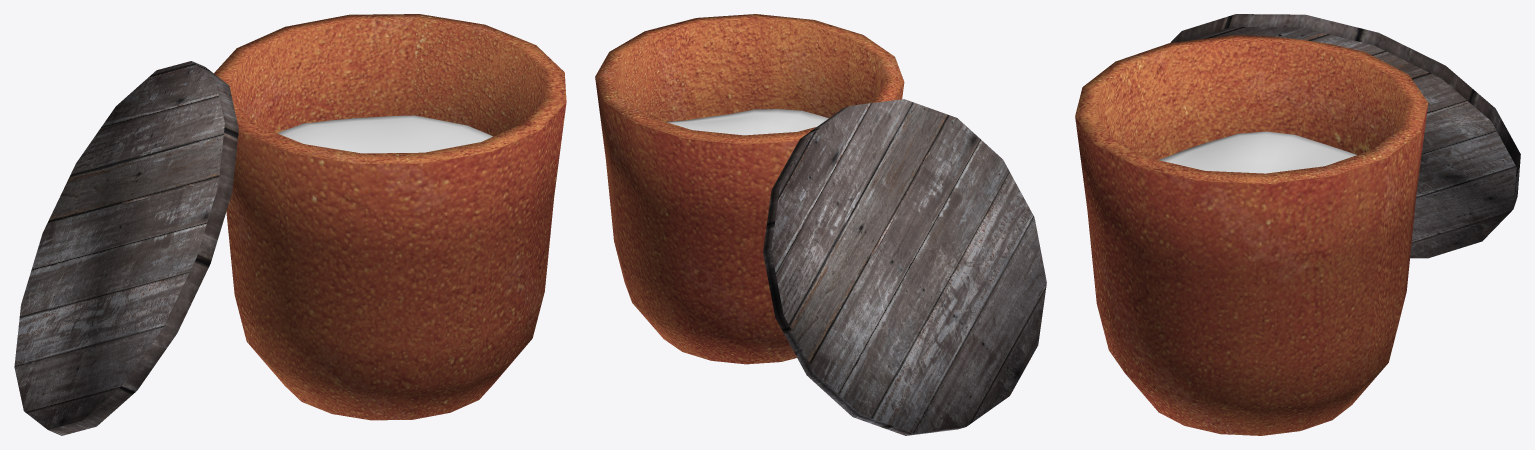
The model's file is WaterBinfbx.fbx.
3 renders of one model, left to right at view 1: azimuth 30°, elevation 25°; view 2: azimuth 150°, elevation 25°; view 3: azimuth 270°, elevation 25°, orthographic. The views are drawn at different scales.
Parts seen in each view (by area): view 1: Cylinder.009; view 2: Cylinder.009; view 3: Cylinder.009.
Boxes of the visible parts, x1,y1,x2,y2 form: Cylinder.009: [14, 14, 566, 435]; Cylinder.009: [595, 14, 1046, 435]; Cylinder.009: [1075, 14, 1520, 435].
Size of the model in its own units: 160 by 132 by 103.
Materials: 3 (2 with a texture image).
